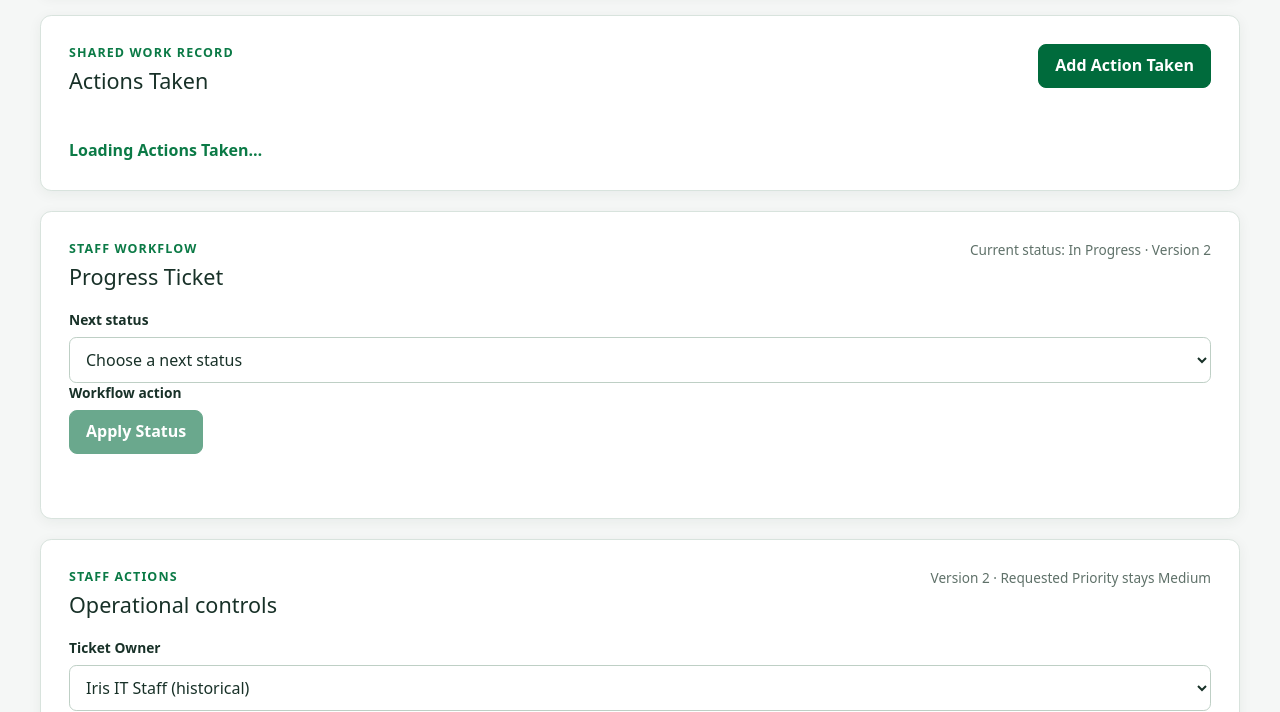
Scenario: Lab 4 Ticket workflow controls › clears the selection and reloads the Ticket after a version conflict
(page scrolled)
Select "Waiting for Requester" in the dropdown labelled "Next status" at (640, 360), box [69, 337, 1211, 383]
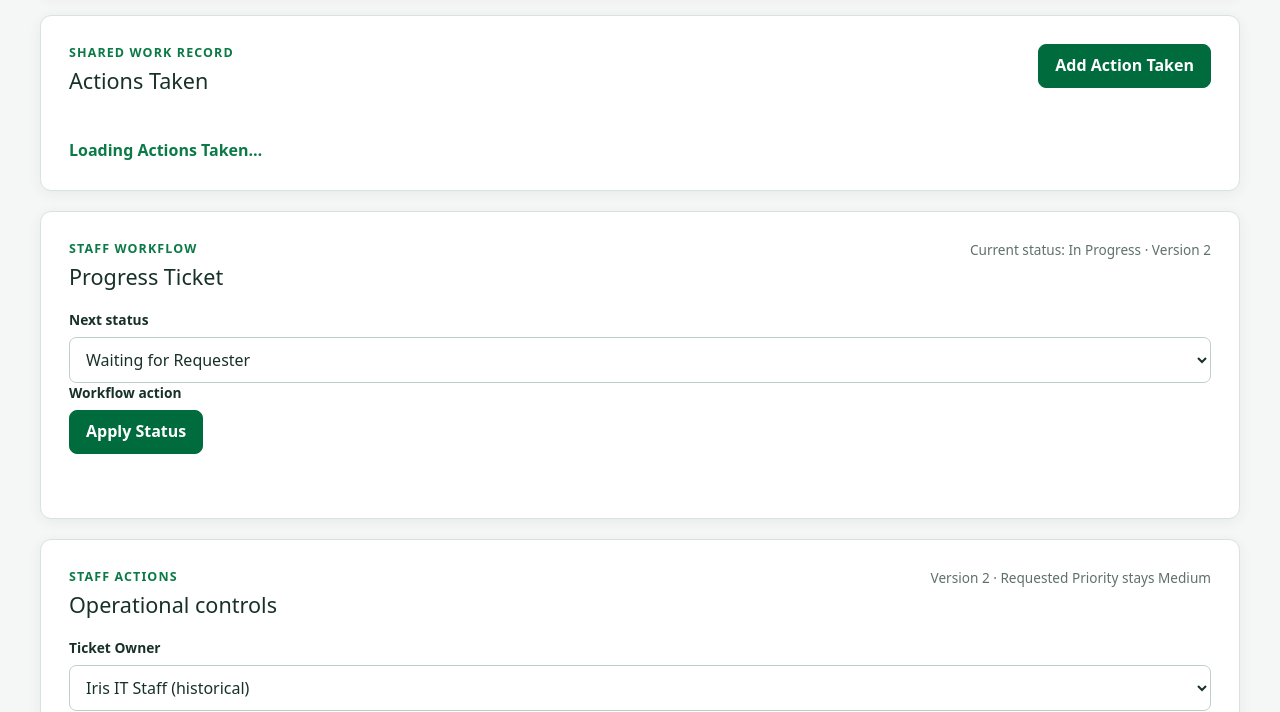
Click the button "Apply Status" at (136, 432), box [69, 410, 203, 454]
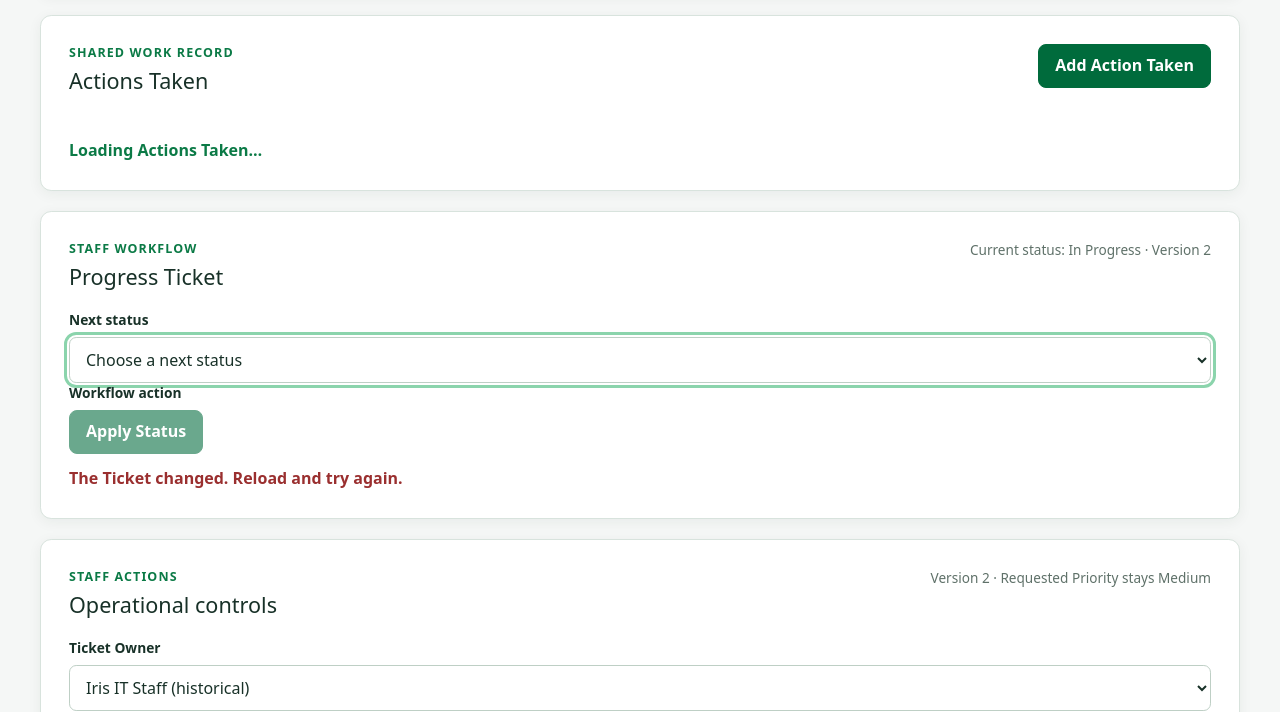
Result: the message "The Ticket changed. Reload and try again." is shown at [69, 467, 403, 489]
